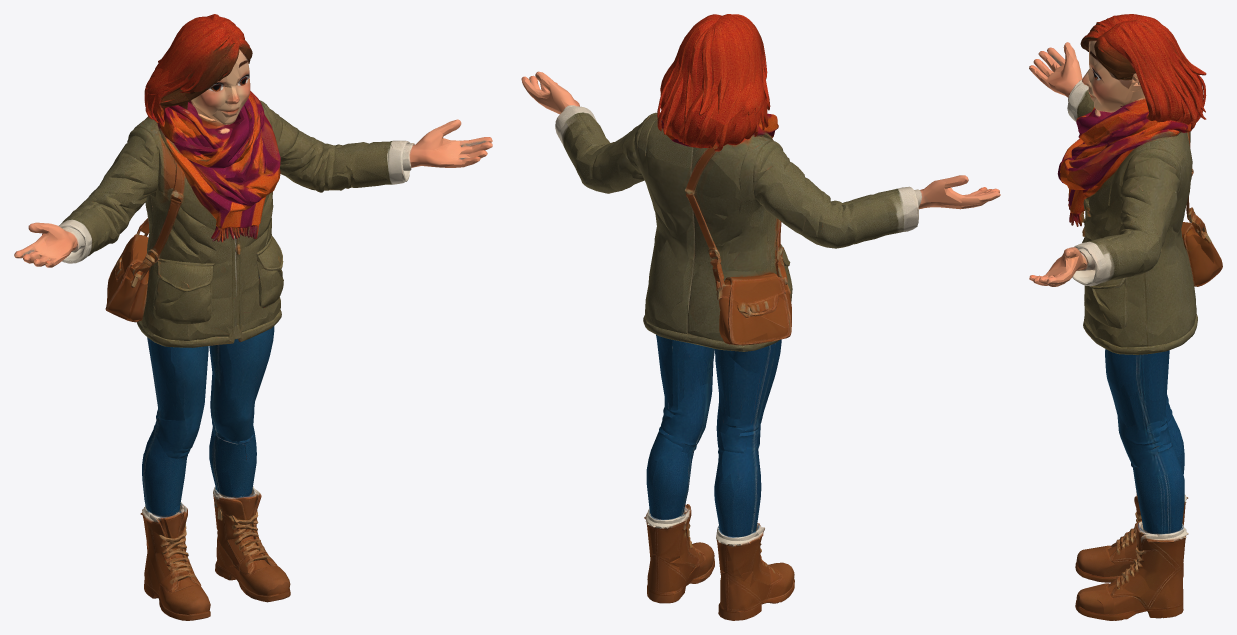
Rendered from traveller.glb.
3 renders of one model, left to right at view 1: azimuth 30°, elevation 25°; view 2: azimuth 150°, elevation 25°; view 3: azimuth 270°, elevation 25°, orthographic.
Size of the model in its own units: 1.65 by 1.9 by 0.58.
Materials: 1 (1 with a texture image).
